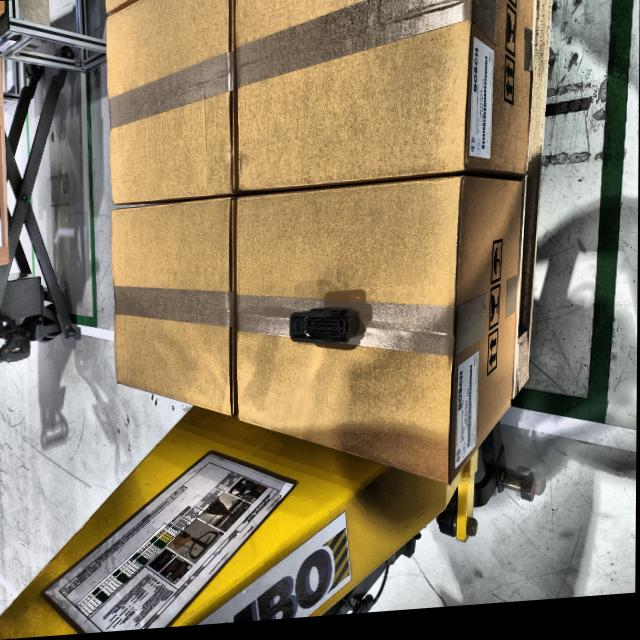P38: (290, 311, 364, 348)
